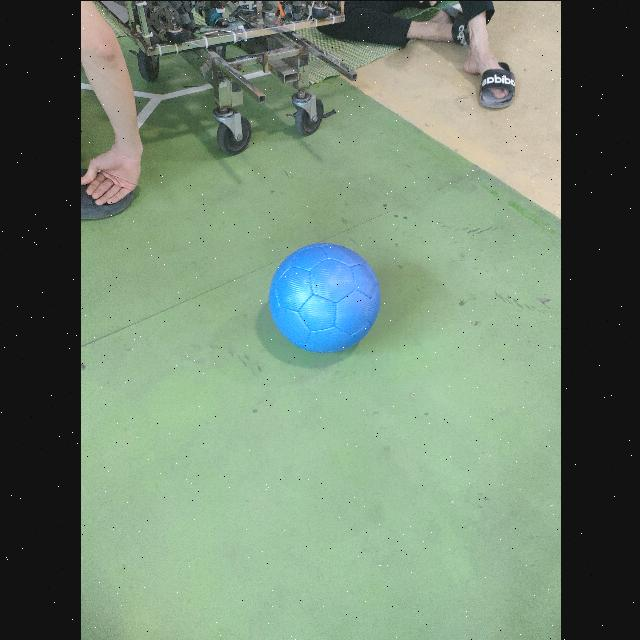B: (268, 243, 379, 351)
